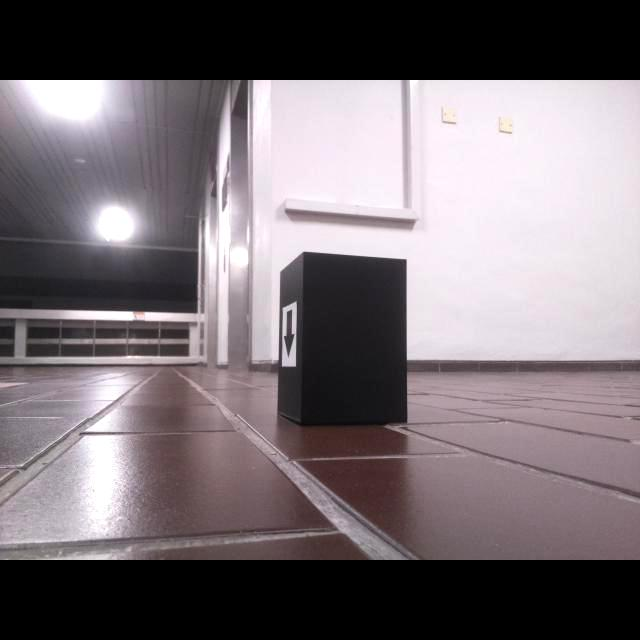DOWN: (283, 309, 295, 359)
